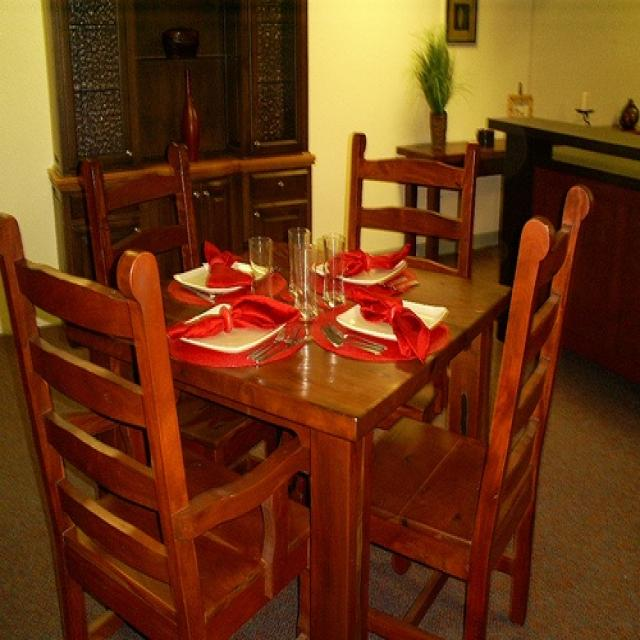chair: (0, 215, 310, 638), (362, 181, 593, 633), (344, 128, 478, 275), (77, 144, 203, 284)
diningtable: (66, 236, 516, 638)
pottedplant: (417, 33, 456, 154)
